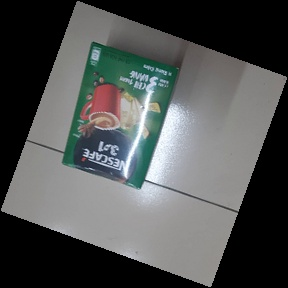Nes Rang: (58, 41, 183, 190)
